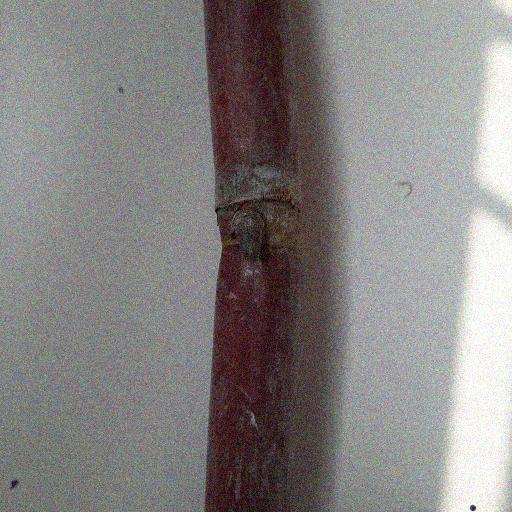Bud: (230, 204, 266, 266)
